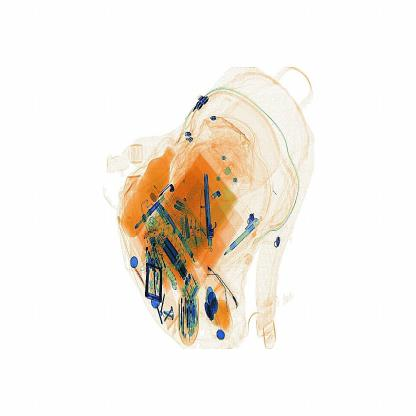pliers: (200, 170, 219, 261)
